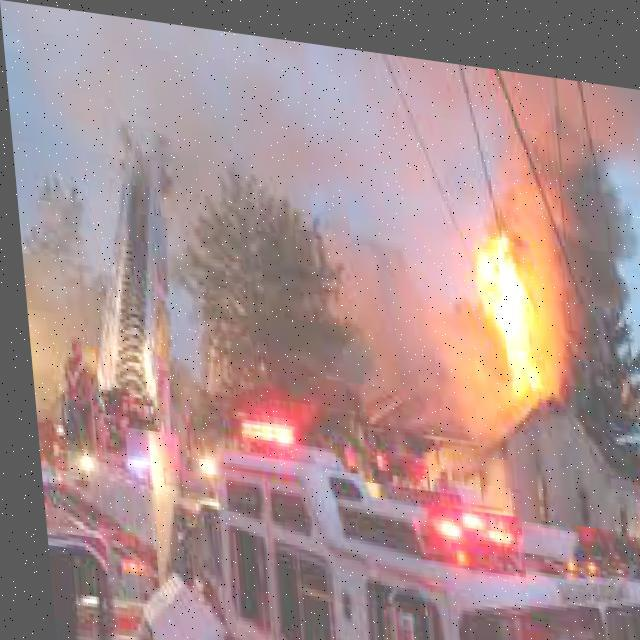Fire: (451, 200, 573, 402)
